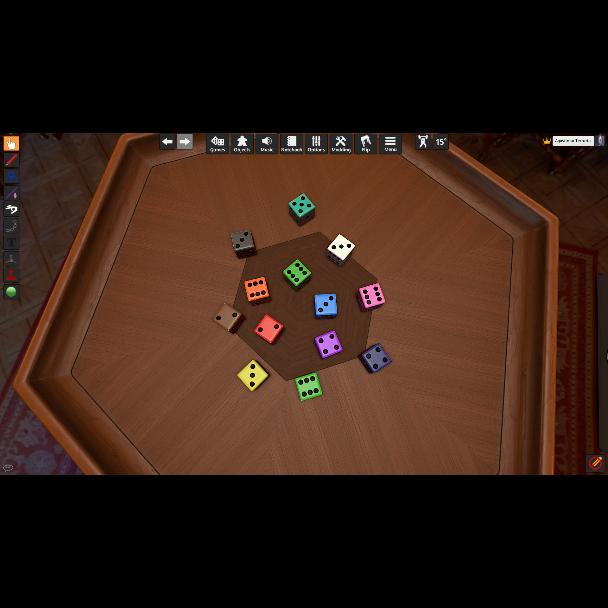d6: (238, 360, 268, 392), (326, 234, 354, 268), (254, 314, 284, 345), (361, 344, 392, 374), (213, 304, 243, 334), (288, 193, 314, 227), (283, 260, 311, 290), (314, 330, 342, 360), (357, 284, 385, 312), (244, 276, 270, 306), (294, 373, 321, 401), (230, 230, 255, 260), (314, 294, 336, 318)
